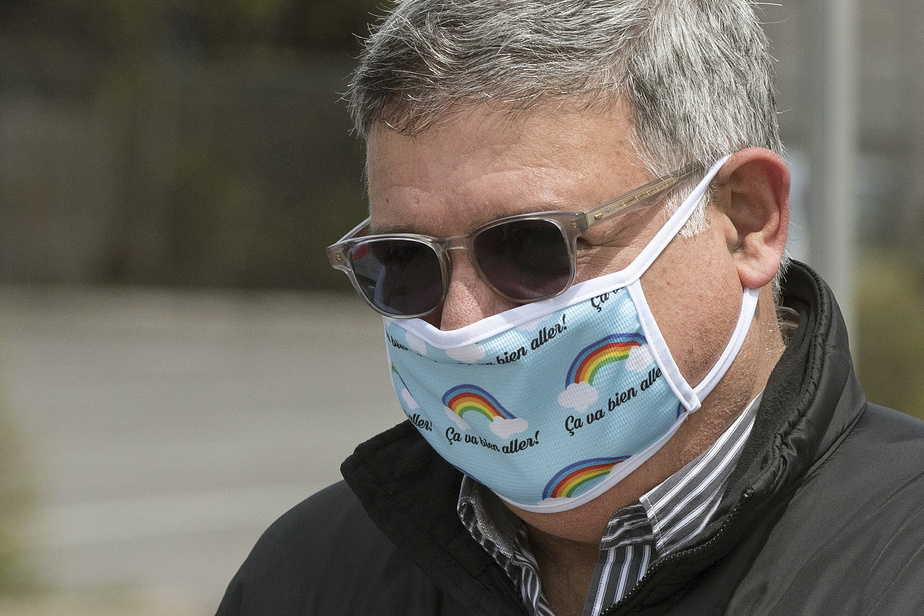with_mask: (322, 81, 744, 515)
